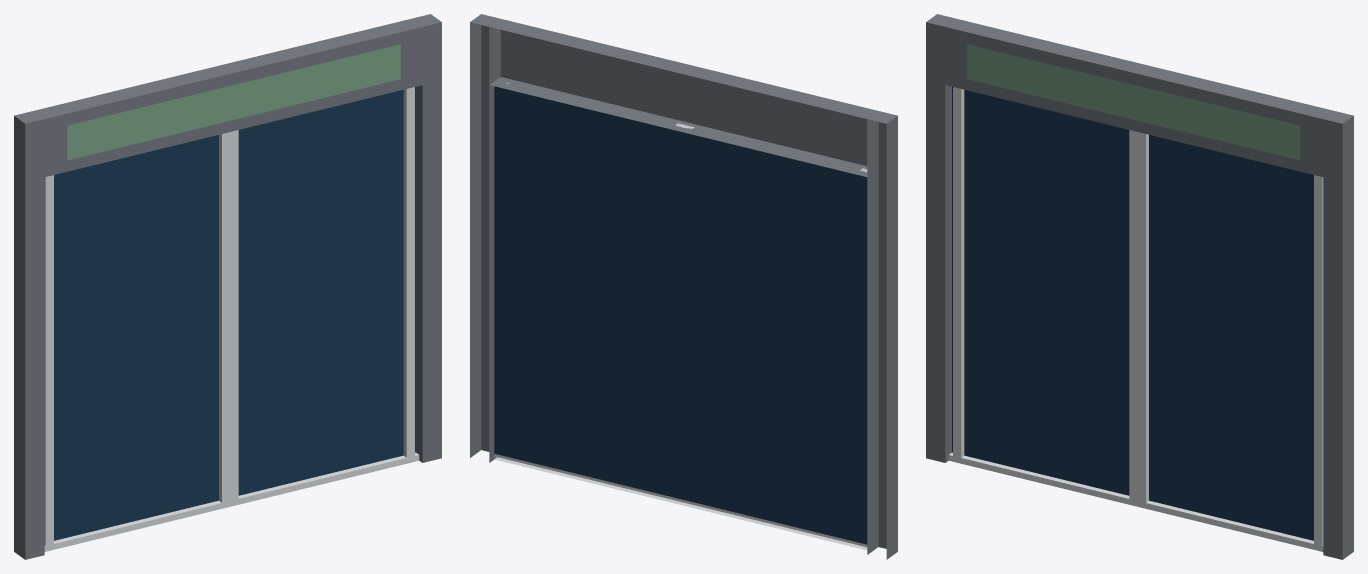
The model's file is entrance.fbx.
3 views of the same model, side by side, from view 1: azimuth 30°, elevation 25°; view 2: azimuth 150°, elevation 25°; view 3: azimuth 330°, elevation 25° (orthographic).
Parts seen in each view (by area): view 1: a2020/0/entrance; view 2: a2020/0/entrance; view 3: a2020/0/entrance.
Boxes of the visible parts, bbox=[...] form: a2020/0/entrance: bbox=[14, 14, 441, 559]; a2020/0/entrance: bbox=[470, 14, 897, 559]; a2020/0/entrance: bbox=[926, 14, 1353, 559].
Size of the model in its own units: 3 by 3 by 0.145.
